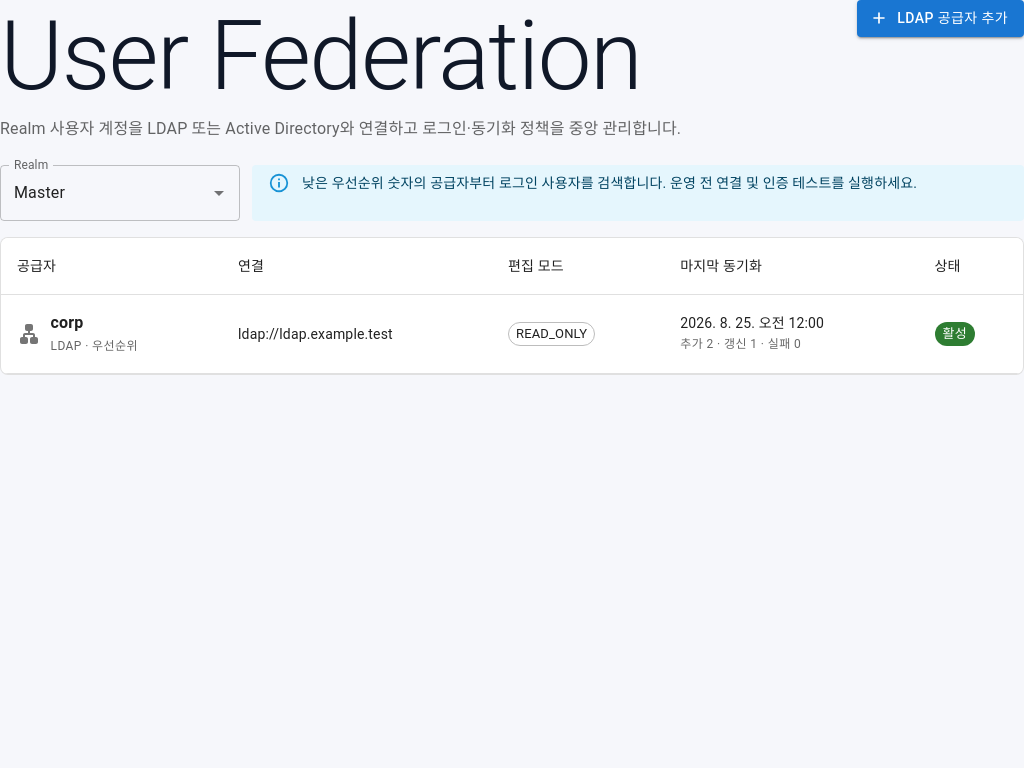
Scenario: a connection test that finds empty attributes says which
The width and height of the screenshot is (1024, 768).
Click the text "corp". click: {"x": 67, "y": 322}
box: [51,313,84,332]
(page scrolled)
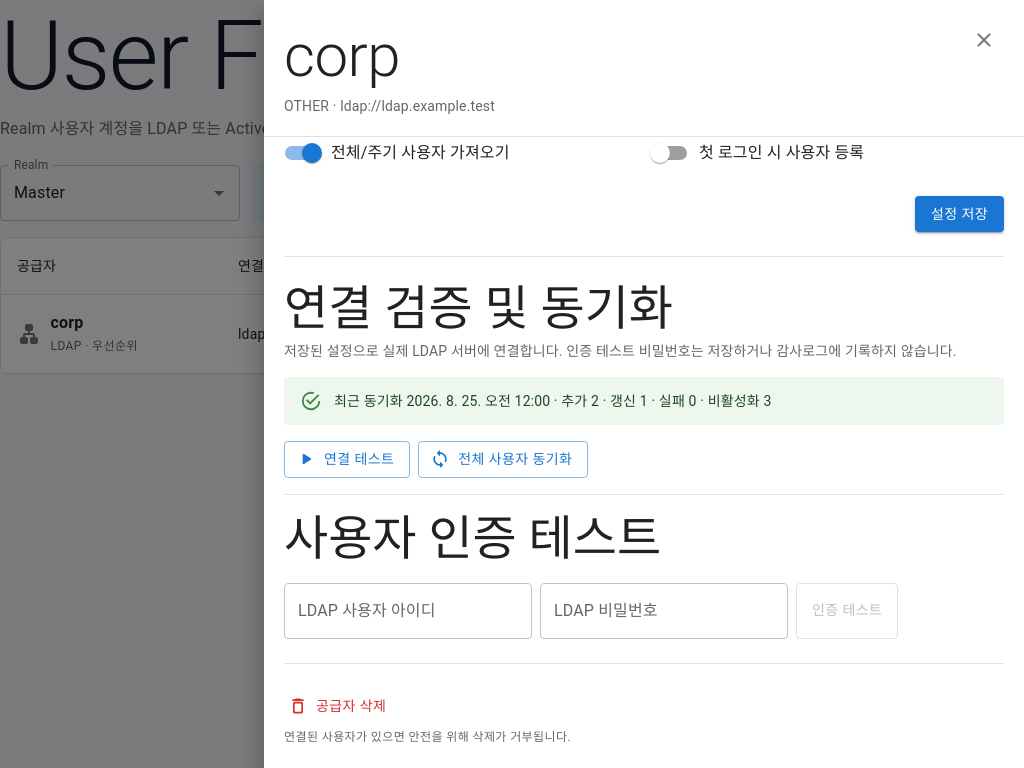
Click the button "연결 테스트". click: {"x": 347, "y": 459}
box: [284,441,410,478]
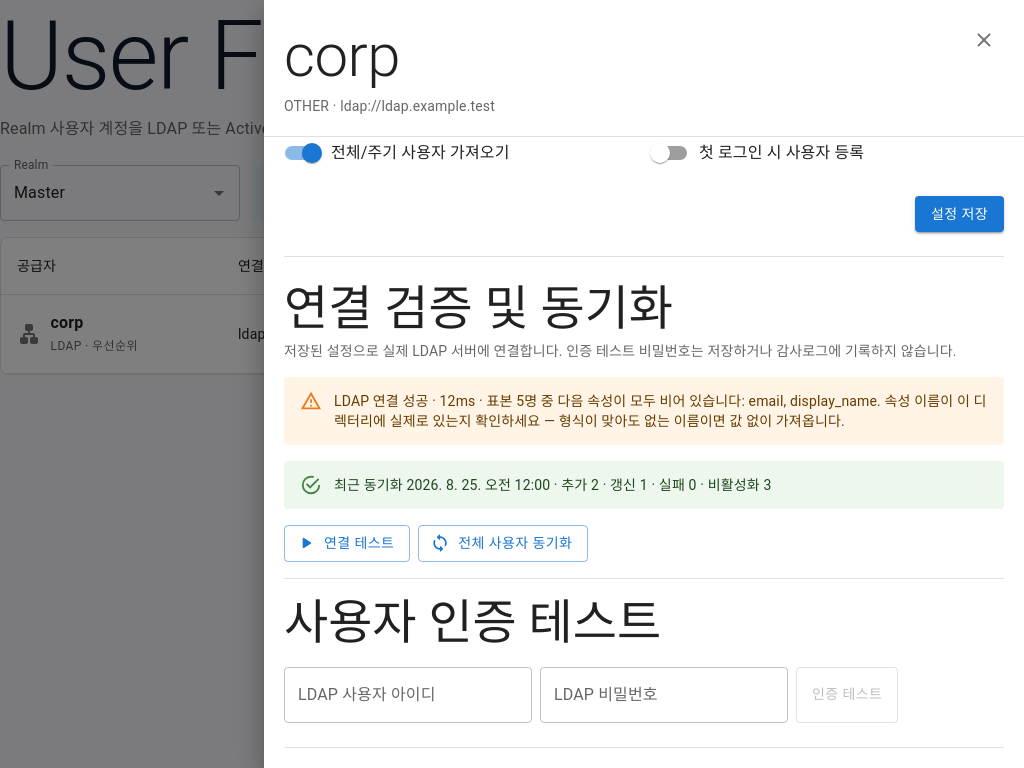
Expected: the text "형식이 맞아도 없는 이름이면" is shown, [334,393,987,429]
